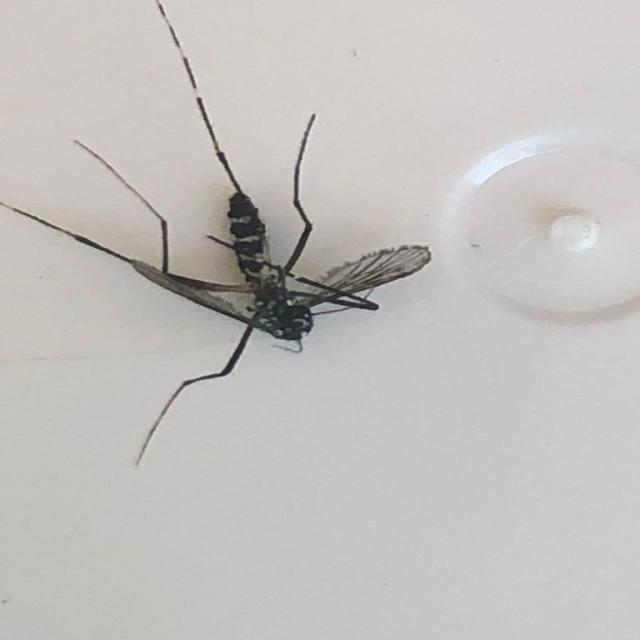albopictus: (37, 15, 461, 462)
